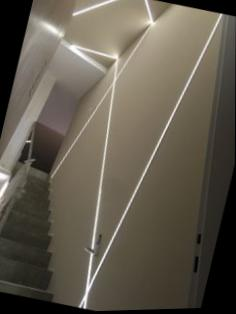Bench: (0, 159, 93, 306)
